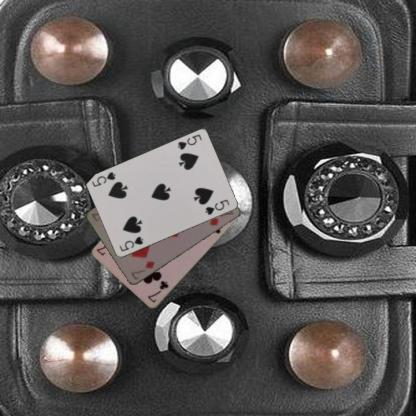5s: (174, 132, 203, 151), (117, 234, 144, 253)
7c: (145, 277, 170, 304)
7d: (128, 258, 156, 282)
